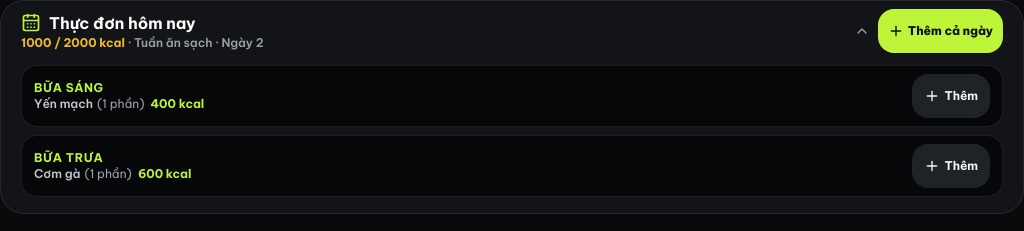
TodayPlanCard › the header folds the card
Click the button "Thực đơn hôm nay 1000 / 2000 kcal · Tuần ăn sạch · Ngày 2".
click(122, 23)  # box x1=21 y1=9 x2=870 y2=53
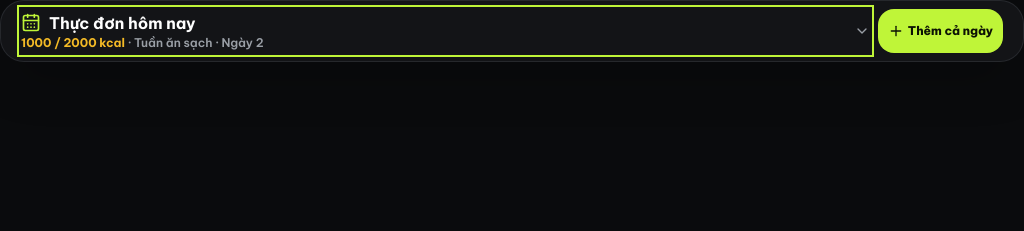
Expected: the button "Thực đơn hôm nay 1000 / 2000 kcal · Tuần ăn sạch · Ngày 2" is collapsed, x1=21 y1=9 x2=870 y2=53
Expected: the text "Yến mạch" is gone
